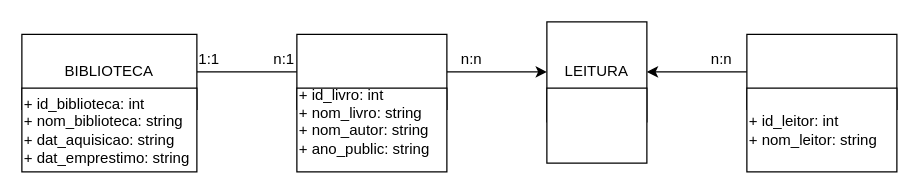
The diagram is 919 pixels wide and 196 high, and some of its shapes have lost their labels. The shapes that lost their labels are listed below. From the top down, each one's centre as x and y in pixels, then its label:
(371,71): LIVRO
(821,71): LEITOR
(596,125): + id_leitura: int + leitor: leitor + livro: livro
